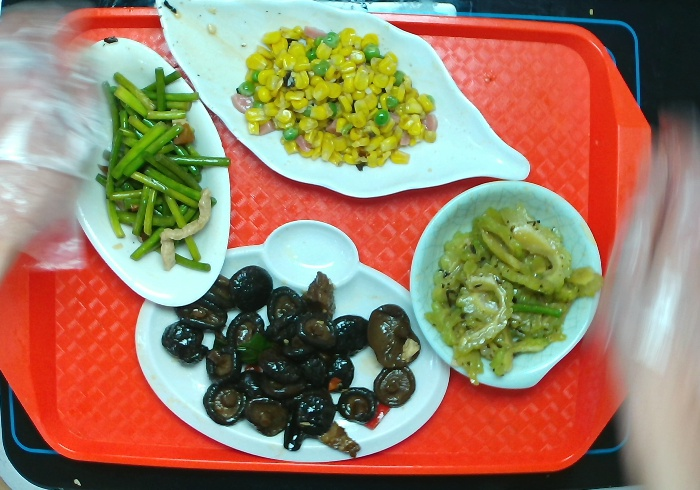RJxy-Bai_Se_Tuo_Yuan: (72, 35, 232, 308)
RJxy-Shu_Ye_Pan: (154, 1, 532, 199)
RJxy-Xiao_Jiao_Yuan_Wan: (408, 179, 604, 390)
RJxy-Zhan_Liao_Pan: (133, 217, 452, 464)
